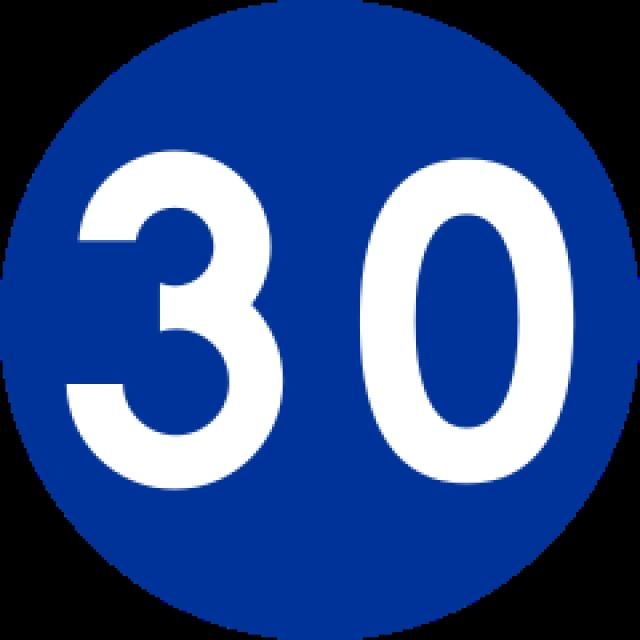Speed Limit -30-: (61, 146, 579, 496)
